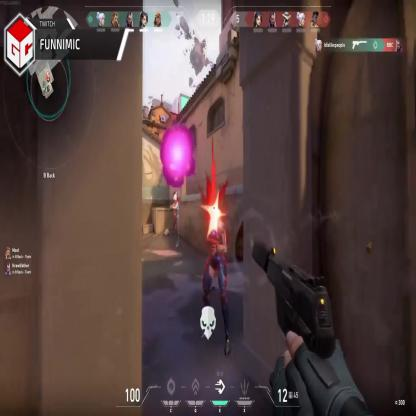enemy: (171, 192, 179, 247)
enemy_head: (173, 192, 177, 202)
